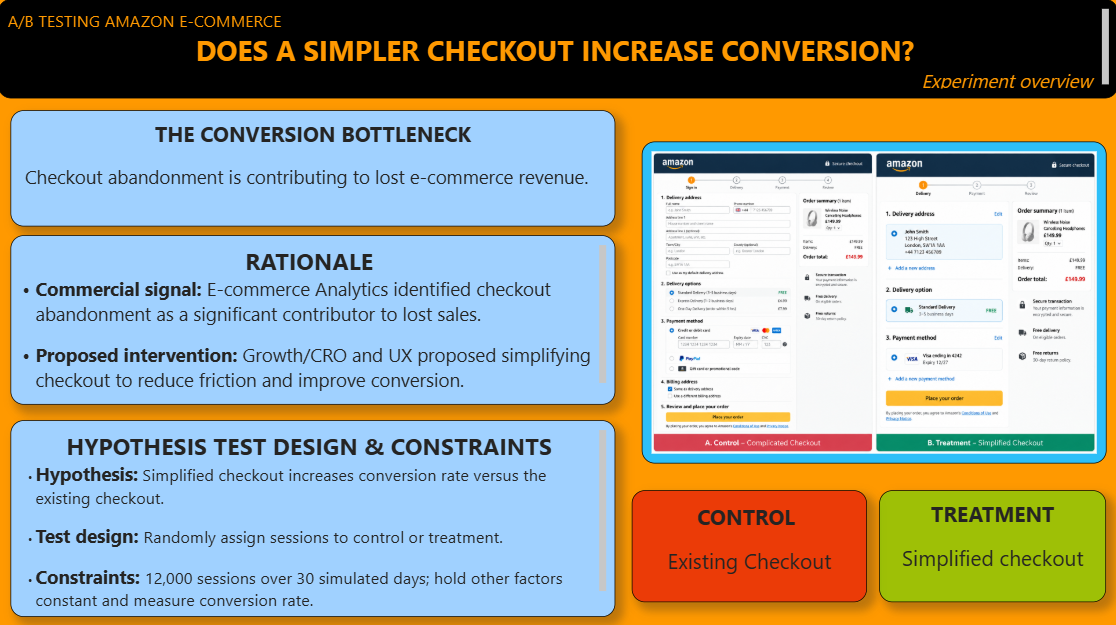

The dashboard page shown, as its layout file describes it:
{"tool":"powerbi","page":{"name":"EXPERIMENTAL OVERVIEW","canvas":[1280,720],"ordinal":0},"visuals":[{"type":"textbox","box":[0,0,1280.3,113.3],"z":0},{"type":"textbox","box":[724.5,561.2,269,127.6],"z":1000},{"type":"textbox","box":[1007.2,561.2,259.3,127.6],"z":2000},{"type":"textbox","box":[13.7,481.6,691.6,225],"z":3000},{"type":"textbox","box":[13.7,127.6,691.6,133.1],"z":4000},{"type":"textbox","box":[13.7,270.3,691.6,193.5],"z":5000},{"type":"image","box":[735.5,163.3,531,367.8],"z":6000}]}

Visuals, with their boxes in screenshot pixels (x1, y1, x2, y2), scaled from the page's 1280x720 canvas onto the 1116x625 screenshot:
textbox: rect(0, 0, 1115, 98)
textbox: rect(632, 487, 866, 598)
textbox: rect(878, 487, 1104, 598)
textbox: rect(12, 418, 615, 613)
textbox: rect(12, 111, 615, 226)
textbox: rect(12, 235, 615, 403)
image: rect(641, 142, 1104, 461)
